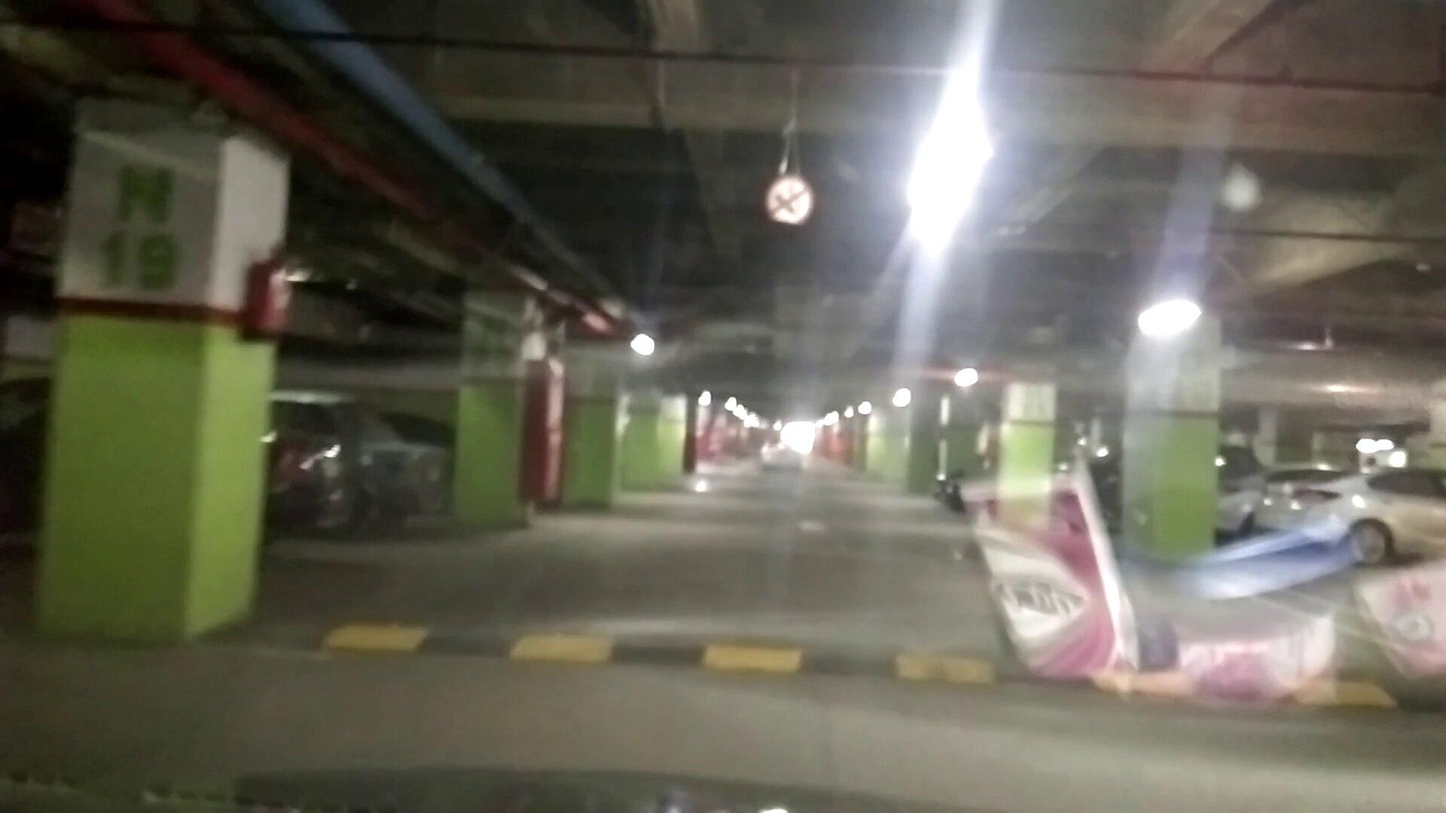Bump: (322, 612, 1431, 725)
